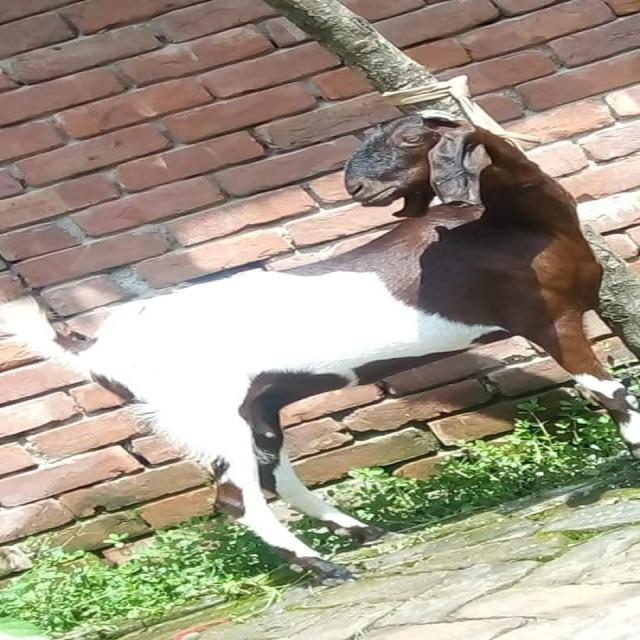Goat: (2, 109, 638, 586)
